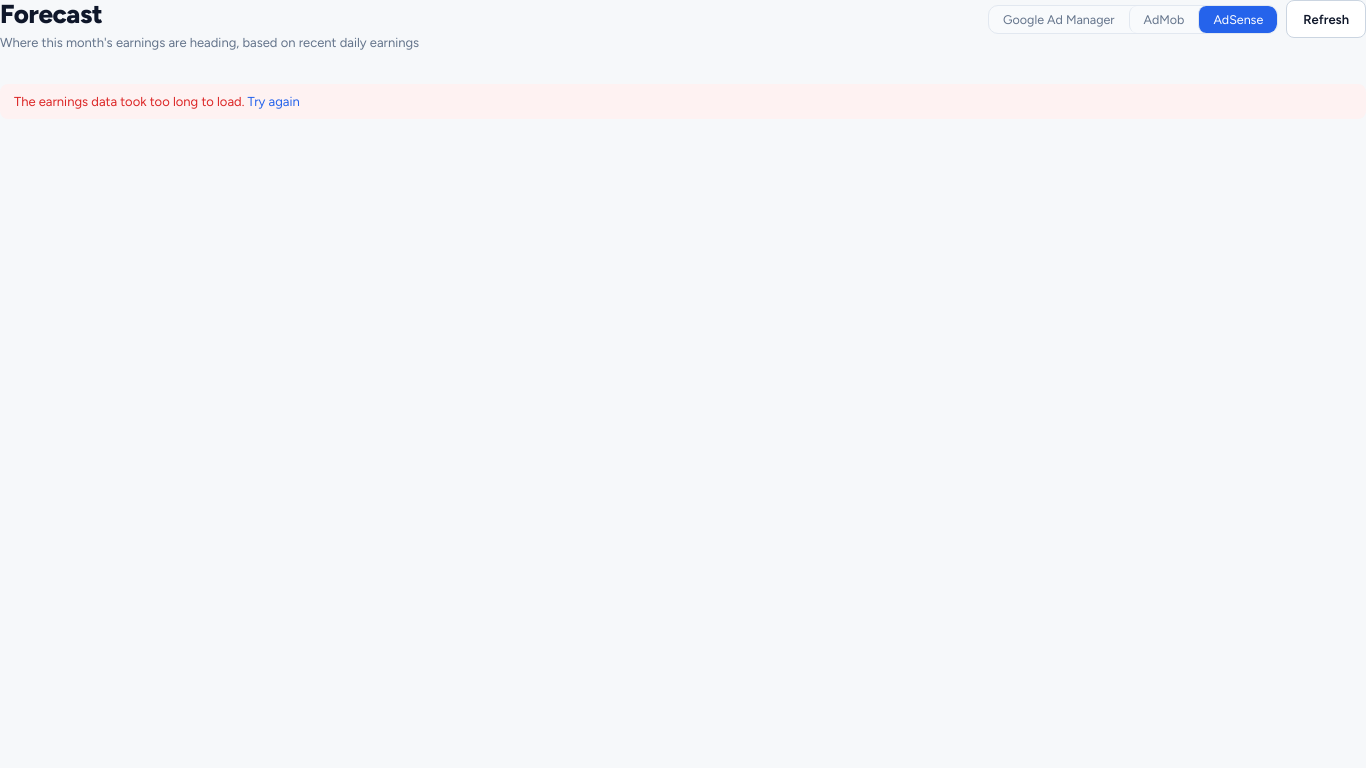
Test: an error offers another try
Check: the message "The earnings data took too long to load. Try again" is shown, box 0,84 -> 1365,119
Click the button "Try again".
click(274, 102)  # box 248,94 -> 300,109
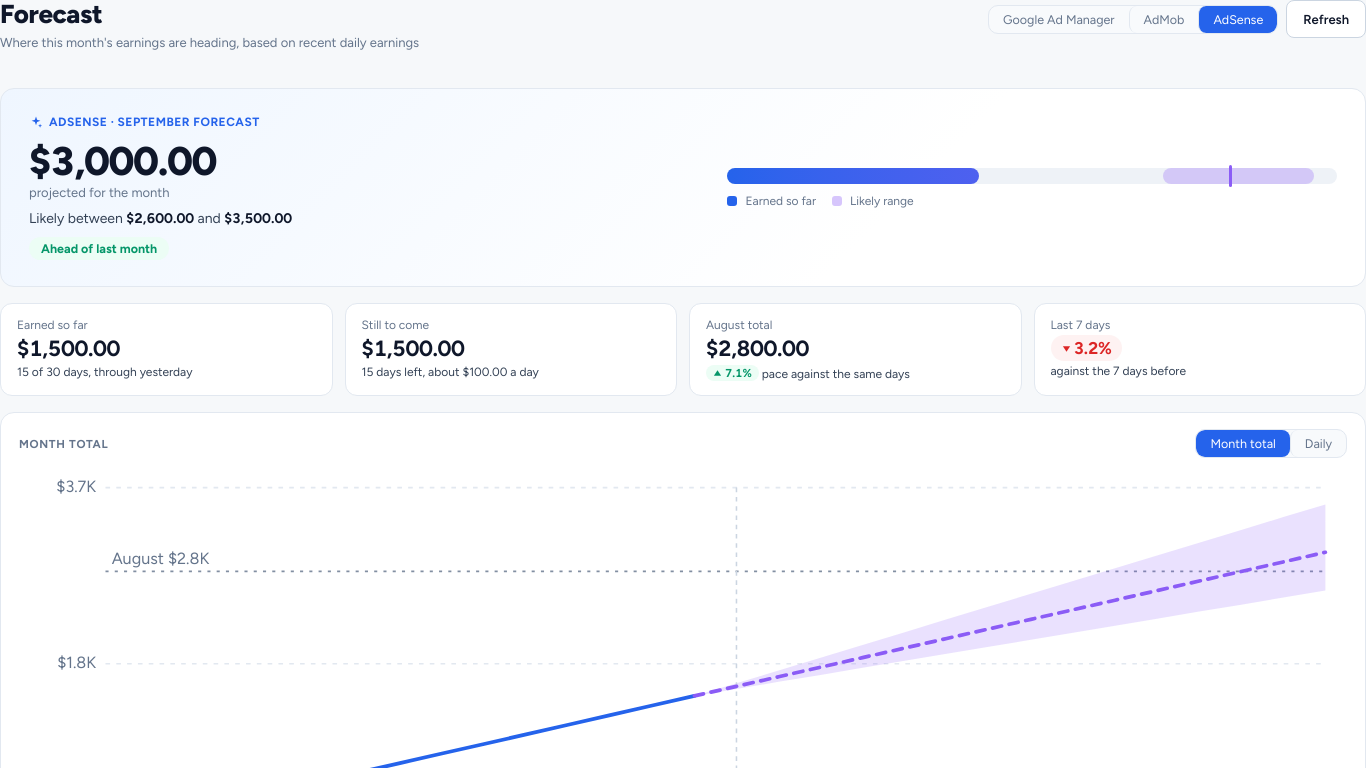
Check: the text with class "fc-big-v" reads "$3,000.00", box 29,137 -> 216,185
